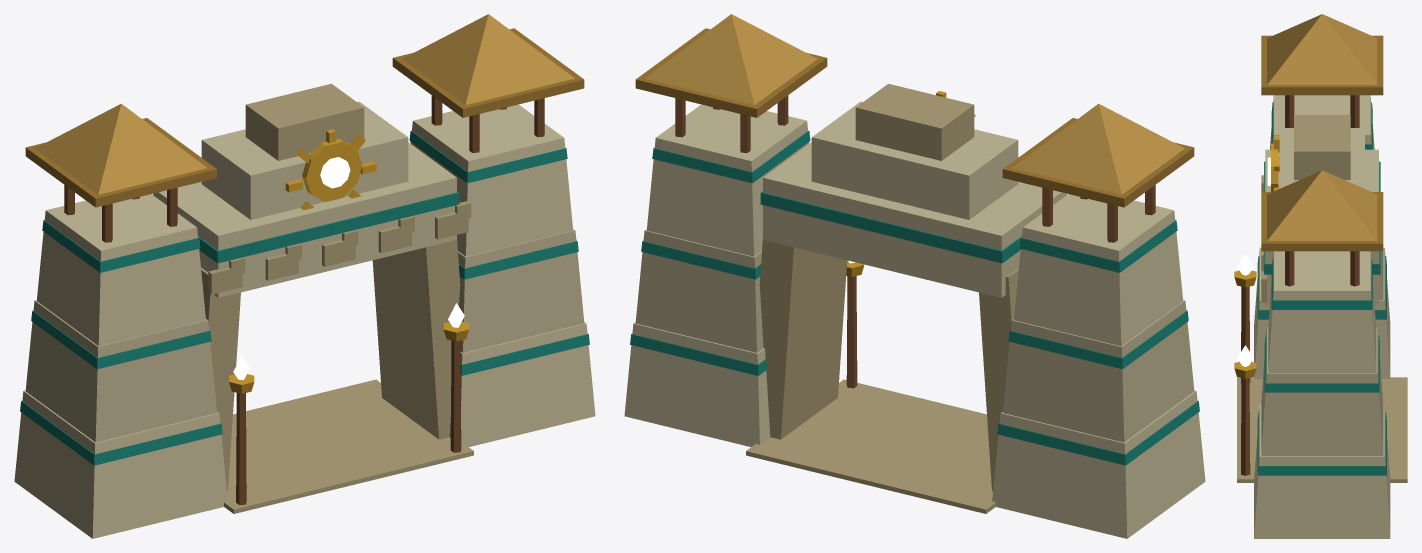
File: gate_t2.glb
3 views of the same model, side by side, from view 1: azimuth 30°, elevation 25°; view 2: azimuth 150°, elevation 25°; view 3: azimuth 270°, elevation 25° (orthographic). The views are drawn at different scales.
Parts seen in each view (by area): view 1: body, glow; view 2: body; view 3: body, glow.
Part boxes in pixels (x1,y1,x2,y2): body: [14, 14, 595, 538]; glow: [233, 157, 464, 380]; body: [624, 14, 1205, 538]; body: [1234, 14, 1407, 538]; glow: [1237, 157, 1270, 366].
Size of the model in its own units: 3.56 by 2.65 by 1.22.
